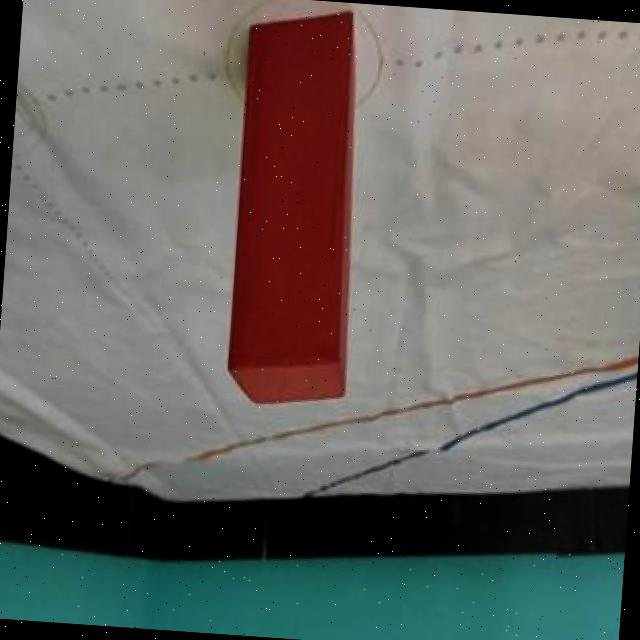redbox: (225, 5, 372, 412)
